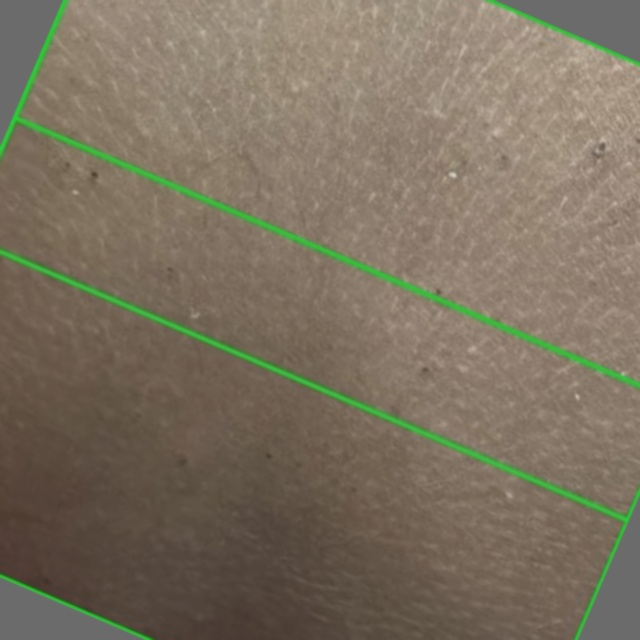Contact Dermatitis: (0, 117, 639, 639), (0, 0, 639, 521)
